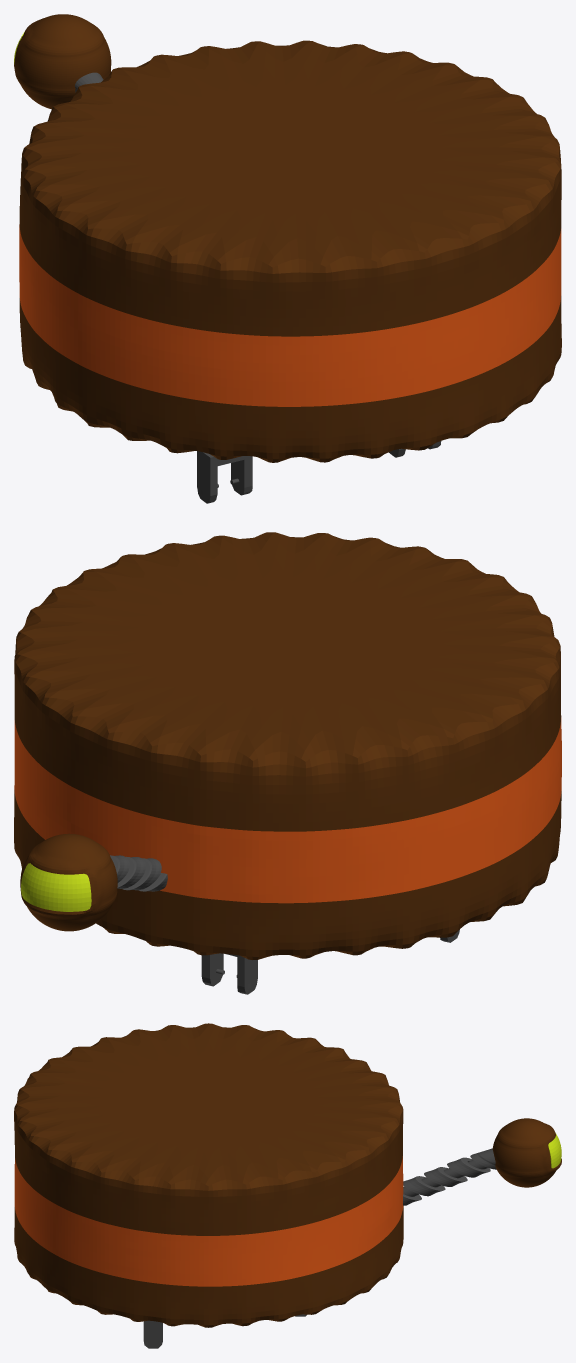
File: Робот-добытчик V1.1_Unity.fbx
3 renders of one model, top to bottom at view 1: azimuth 30°, elevation 25°; view 2: azimuth 150°, elevation 25°; view 3: azimuth 270°, elevation 25°, orthographic. The views are drawn at different scales.
Visible parts, largest first — view 1: Корпус, Голова, Cube.001; view 2: Корпус, Голова, Глаза, Cube.002; view 3: Корпус, Голова, Шейный позвонок 5, Шейный позвонок 4, Шейный позвонок 3, Cube, Шея.
Boxes of the visible parts, bbox=[...] form: Корпус: bbox=[19, 40, 561, 462]; Голова: bbox=[14, 14, 111, 109]; Cube.001: bbox=[197, 451, 252, 503]; Корпус: bbox=[14, 532, 561, 959]; Голова: bbox=[20, 833, 117, 931]; Глаза: bbox=[21, 863, 91, 911]; Cube.002: bbox=[201, 953, 257, 994]; Корпус: bbox=[14, 1023, 403, 1327]; Голова: bbox=[492, 1118, 561, 1187]; Шейный позвонок 5: bbox=[443, 1157, 490, 1178]; Шейный позвонок 4: bbox=[421, 1167, 467, 1187]; Шейный позвонок 3: bbox=[403, 1176, 445, 1196]; Cube: bbox=[143, 1320, 162, 1348]; Шея: bbox=[467, 1148, 496, 1169].
Bounding box in the file's own units: 200 × 119 × 281.
